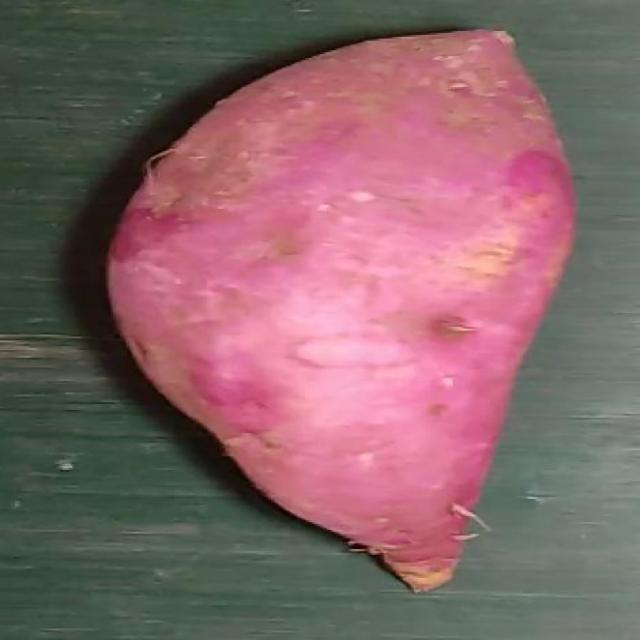Sweet Potato: (106, 29, 577, 595)
